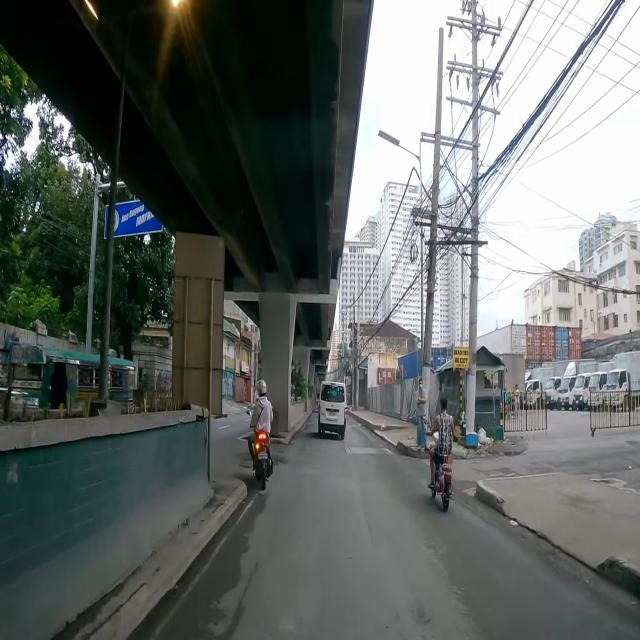car: (318, 382, 346, 438)
jeepney: (0, 344, 135, 424)
motorcycle: (246, 380, 274, 490), (428, 398, 454, 511)
truck: (558, 358, 598, 412), (607, 352, 640, 414), (588, 363, 615, 411), (544, 362, 570, 410), (525, 366, 554, 409), (574, 364, 598, 407)
